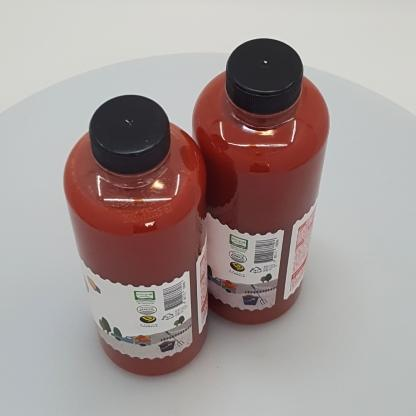-------------------900ML: (64, 93, 209, 377), (192, 38, 330, 325)
